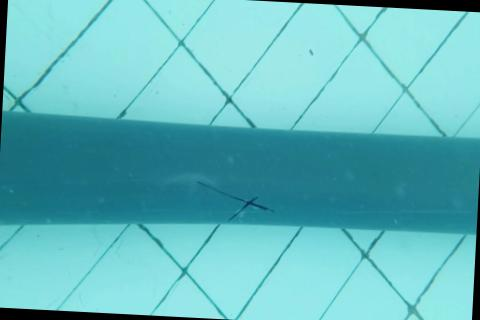keretakan: (197, 180, 277, 222)
